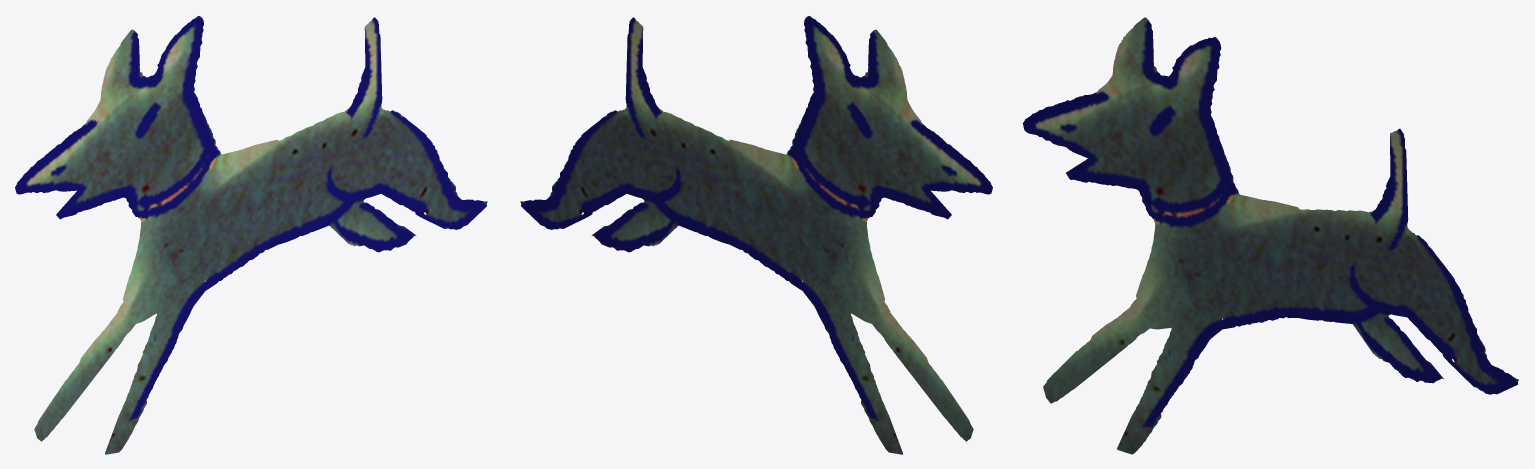
The model's file is animal_06.fbx.
3 views of the same model, side by side, from view 1: azimuth 30°, elevation 25°; view 2: azimuth 150°, elevation 25°; view 3: azimuth 330°, elevation 25° (orthographic). The views are drawn at different scales.
Visible parts, largest first — view 1: animal_06; view 2: animal_06; view 3: animal_06.
Boxes of the visible parts, x1=… form: animal_06: x1=15, y1=16, x2=487, y2=454; animal_06: x1=520, y1=16, x2=992, y2=454; animal_06: x1=1023, y1=17, x2=1518, y2=454.
Size of the model in its own units: 80.24 by 68.24 by 8.13e-06.
1 material, 1 textured.
